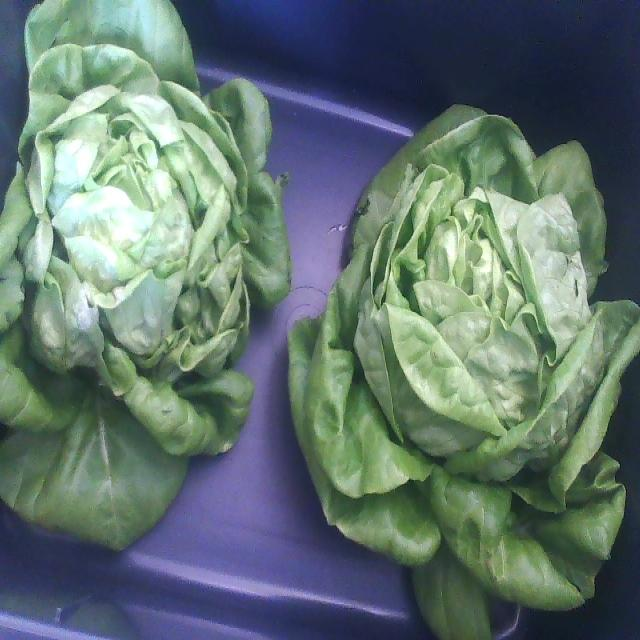Lettuce-plant: (289, 107, 639, 639), (0, 0, 290, 548)
